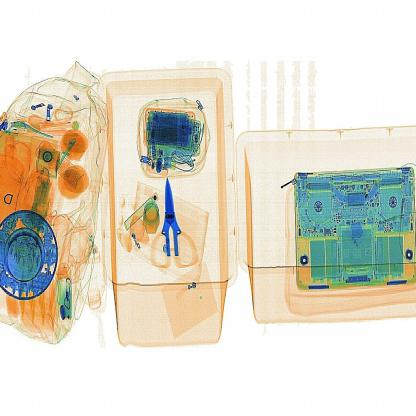gun: (152, 176, 204, 269)
